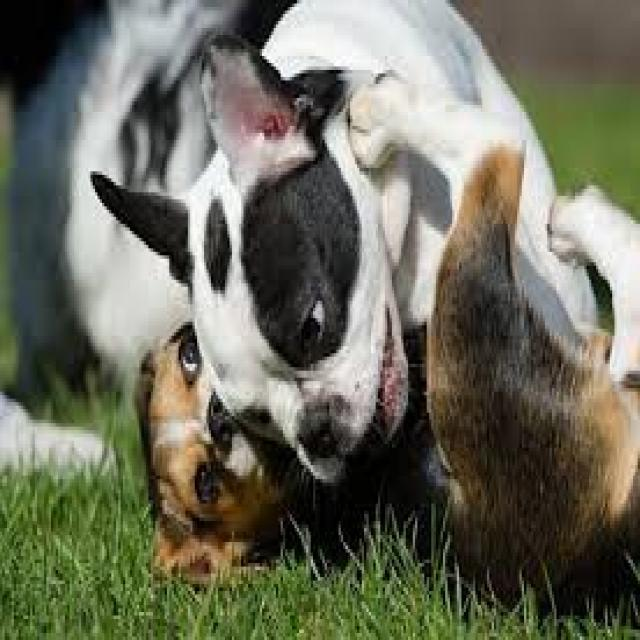Dog: (81, 21, 412, 492), (130, 305, 282, 580)
